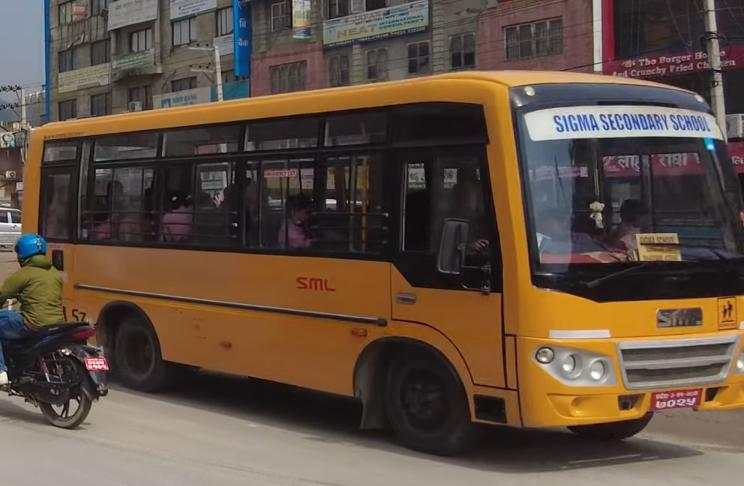bike: (0, 300, 111, 429)
school_bus: (16, 63, 744, 453)
